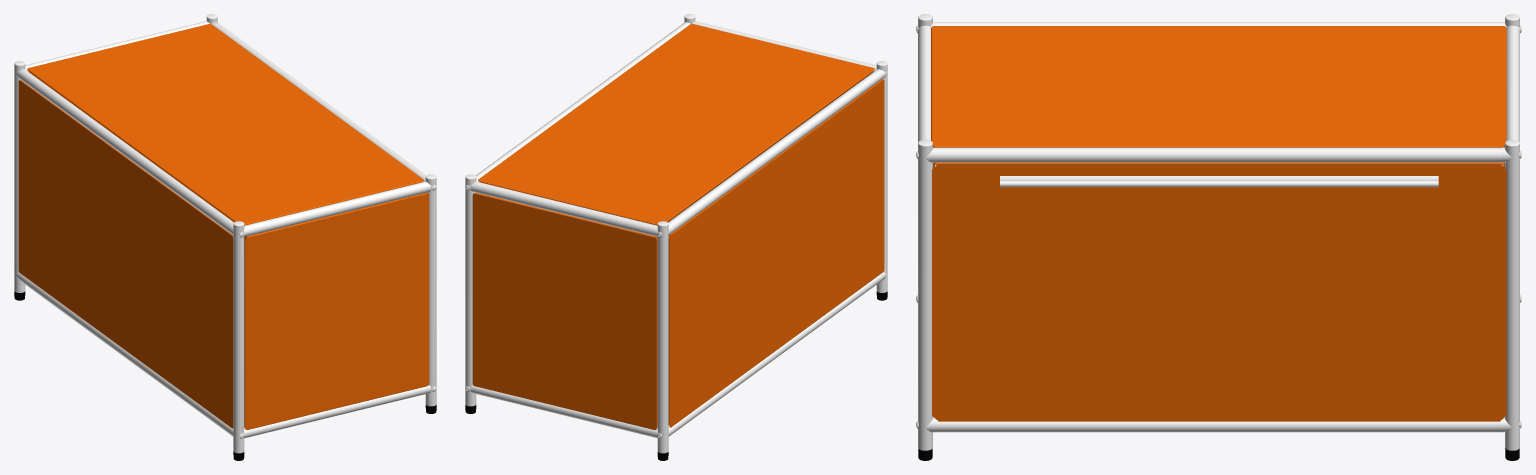
Rendered from 80x40x40-1-4-Orange_optimized_optimized.glb.
3 views of the same model, side by side, from view 1: azimuth 30°, elevation 25°; view 2: azimuth 150°, elevation 25°; view 3: azimuth 270°, elevation 25° (orthographic). The views are drawn at different scales.
Visible parts, largest first — view 1: 直角鐵板-80x40-5 - 零件, new-上塞-1 - 零件; view 2: 直角鐵板-80x40-5 - 零件, new-上塞-1 - 零件; view 3: 直角鐵板-80x40-5 - 零件, new-上塞-1 - 零件.
Boxes of the visible parts, box(x1,y1,x2,y2) form: 直角鐵板-80x40-5 - 零件: box(18, 23, 429, 429); new-上塞-1 - 零件: box(14, 14, 436, 453); 直角鐵板-80x40-5 - 零件: box(472, 23, 884, 429); new-上塞-1 - 零件: box(465, 14, 887, 453); 直角鐵板-80x40-5 - 零件: box(931, 26, 1506, 421); new-上塞-1 - 零件: box(916, 14, 1521, 450).
Size of the model in its own units: 0.4198 by 0.4453 by 0.7732.
